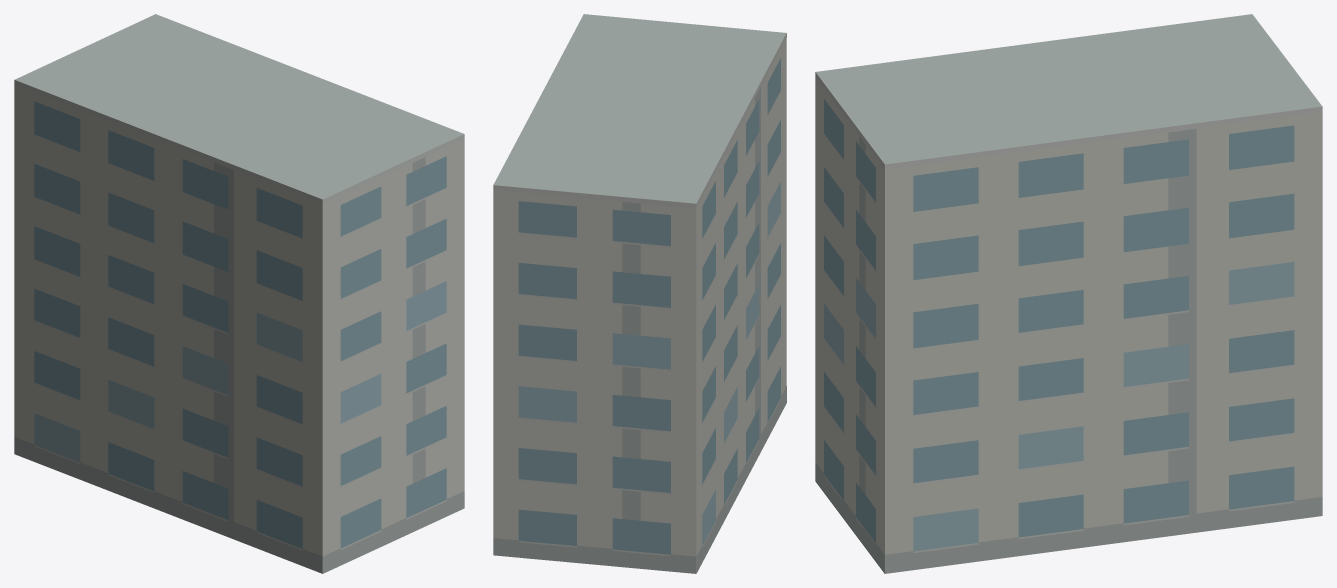
Rendered from survey-upis-32617776.glb.
3 renders of one model, left to right at view 1: azimuth 30°, elevation 25°; view 2: azimuth 150°, elevation 25°; view 3: azimuth 270°, elevation 25°, orthographic. The views are drawn at different scales.
Parts seen in each view (by area): view 1: survey-upis-32617776.tmp; view 2: survey-upis-32617776.tmp; view 3: survey-upis-32617776.tmp.
Boxes of the visible parts, left/top/right/bottom form: survey-upis-32617776.tmp: left=14, top=14, right=464, bottom=573; survey-upis-32617776.tmp: left=493, top=14, right=786, bottom=573; survey-upis-32617776.tmp: left=815, top=14, right=1322, bottom=573.
Bounding box in the file's own units: 14.32 × 18.15 × 20.39.
